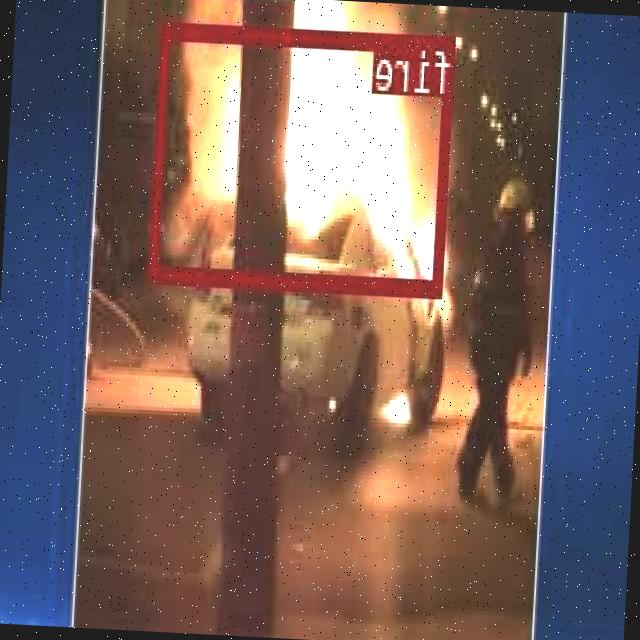fire: (150, 19, 458, 293)
